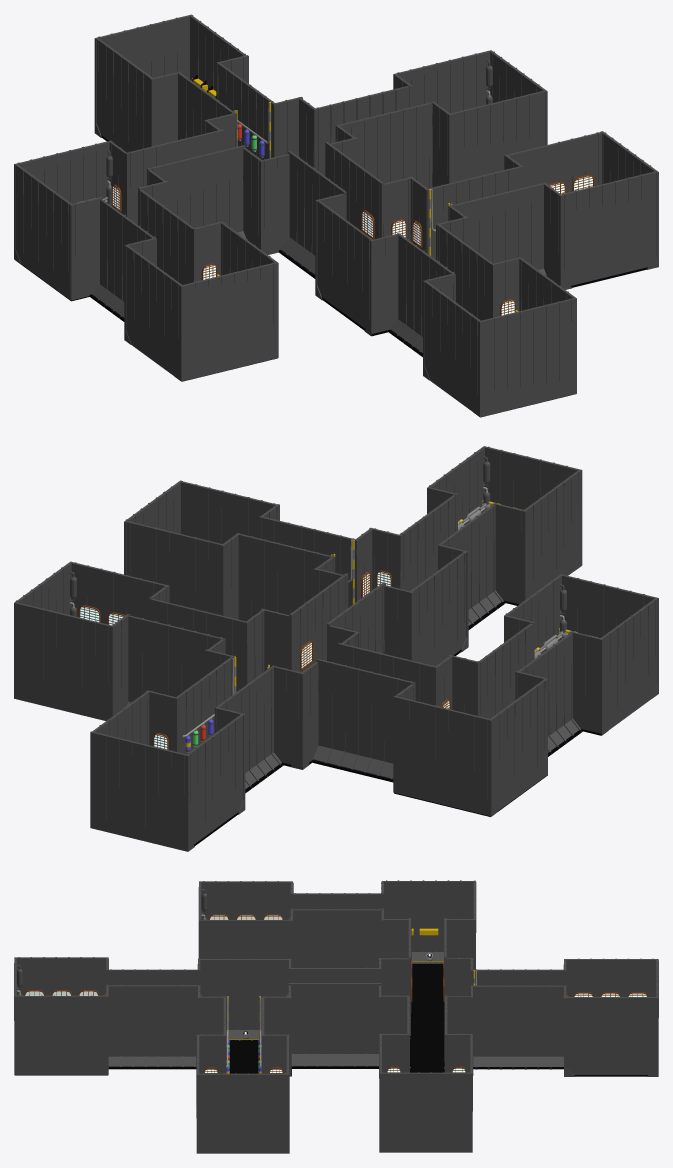
Rendered from Room8.fbx.
3 views of the same model, one above another, from view 1: azimuth 30°, elevation 25°; view 2: azimuth 150°, elevation 25°; view 3: azimuth 270°, elevation 25° (orthographic). The views are drawn at different scales.
Parts seen in each view (by area): view 1: Room8; view 2: Room8; view 3: Room8.
Part boxes in pixels (x1,y1,x2,y2): Room8: [14, 14, 658, 417]; Room8: [14, 446, 658, 851]; Room8: [14, 880, 658, 1153].
Bounding box in the file's own units: 58722 × 11569 × 82811.
